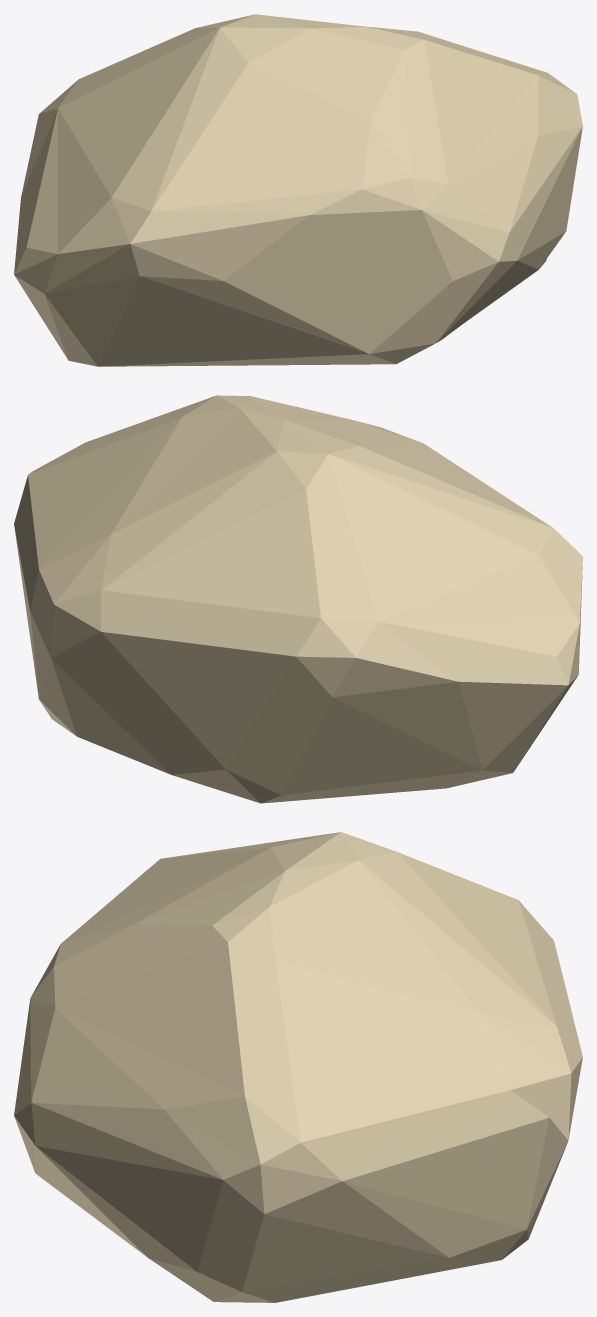
File: stone_003.fbx
3 renders of one model, top to bottom at view 1: azimuth 30°, elevation 25°; view 2: azimuth 150°, elevation 25°; view 3: azimuth 270°, elevation 25°, orthographic. The views are drawn at different scales.
Visible parts, largest first — view 1: Icosphere.004; view 2: Icosphere.004; view 3: Icosphere.004.
Boxes of the visible parts, box(x1,y1,x2,y2) form: Icosphere.004: box(14, 14, 582, 366); Icosphere.004: box(14, 395, 582, 803); Icosphere.004: box(14, 832, 582, 1302).
Bounding box in the file's own units: 2.96 × 1.53 × 2.24.
